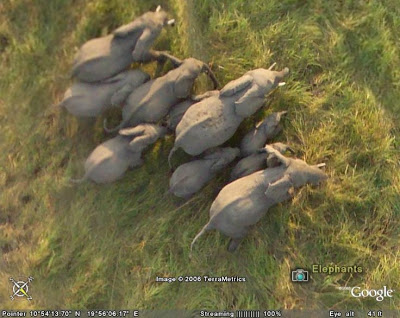elephant: (188, 147, 338, 256), (148, 61, 297, 159), (108, 56, 215, 136), (68, 9, 177, 75), (68, 122, 165, 191)
